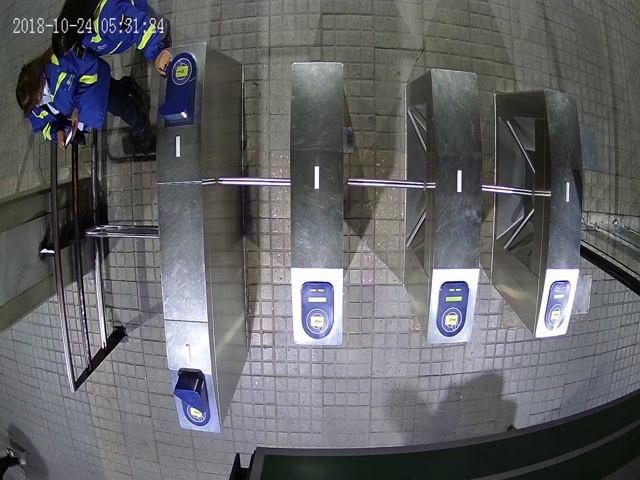Chaleco_azul: (15, 50, 149, 145), (49, 1, 170, 76)
